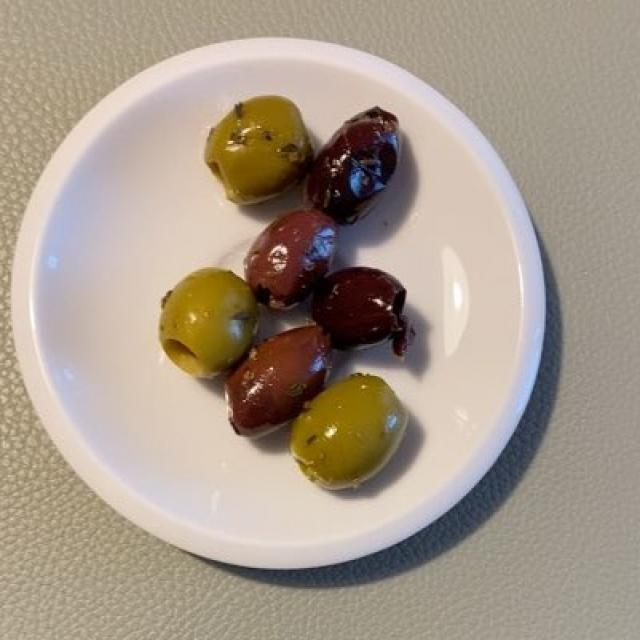green-olives: (157, 92, 427, 487)
